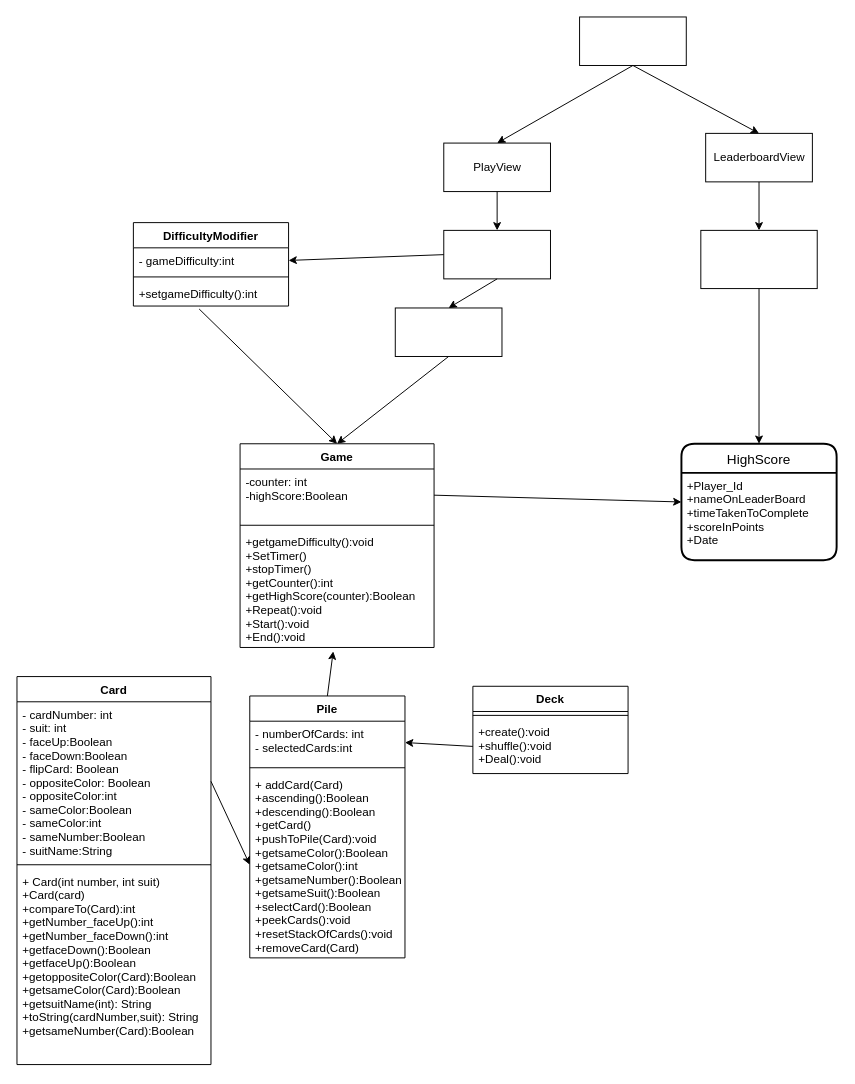
Some shapes in this 855 by 1084 pixel diagram are drawn without their labels. Here are the shapes that lost their labels. From the top down, the centre of each, then its label:
the point at 632,40: HomeView
the point at 496,254: DifficultyView
the point at 758,259: Leader Database
the point at 448,331: gameClassModel
